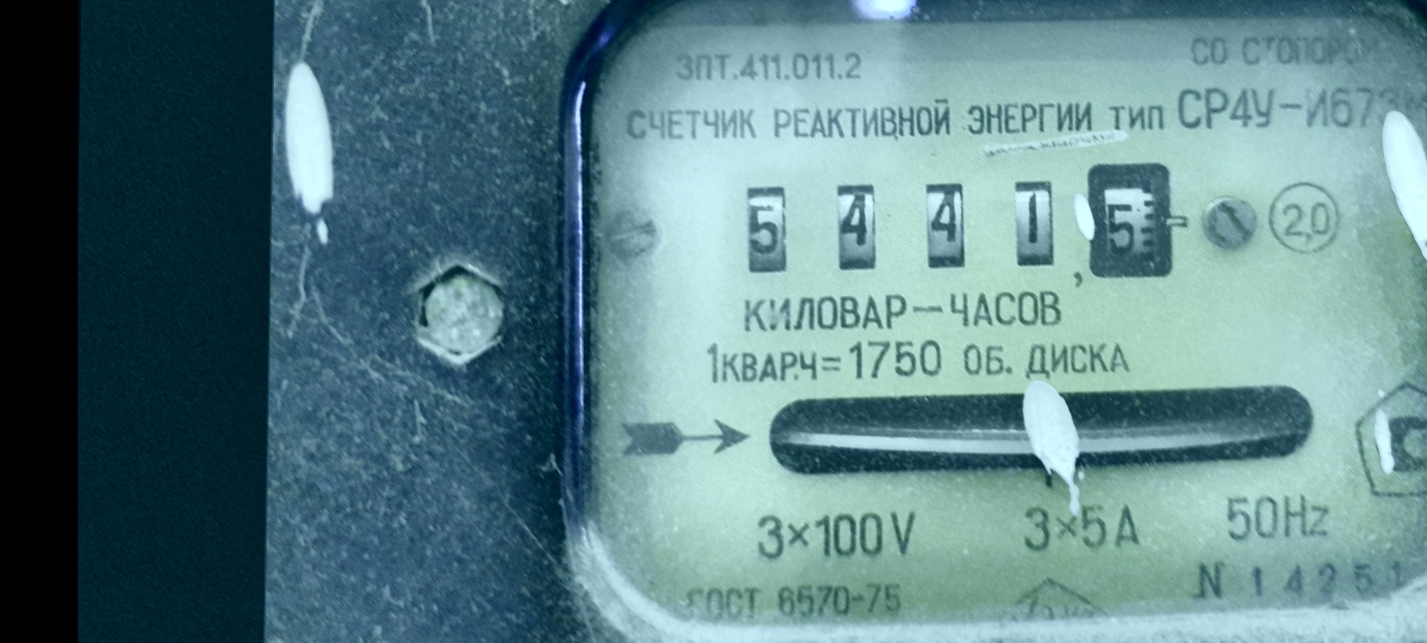1: (1019, 190, 1044, 248)
4: (924, 184, 962, 251), (836, 189, 872, 250)
5: (743, 201, 783, 258), (1103, 197, 1138, 260)
screen: (721, 135, 1196, 308)
